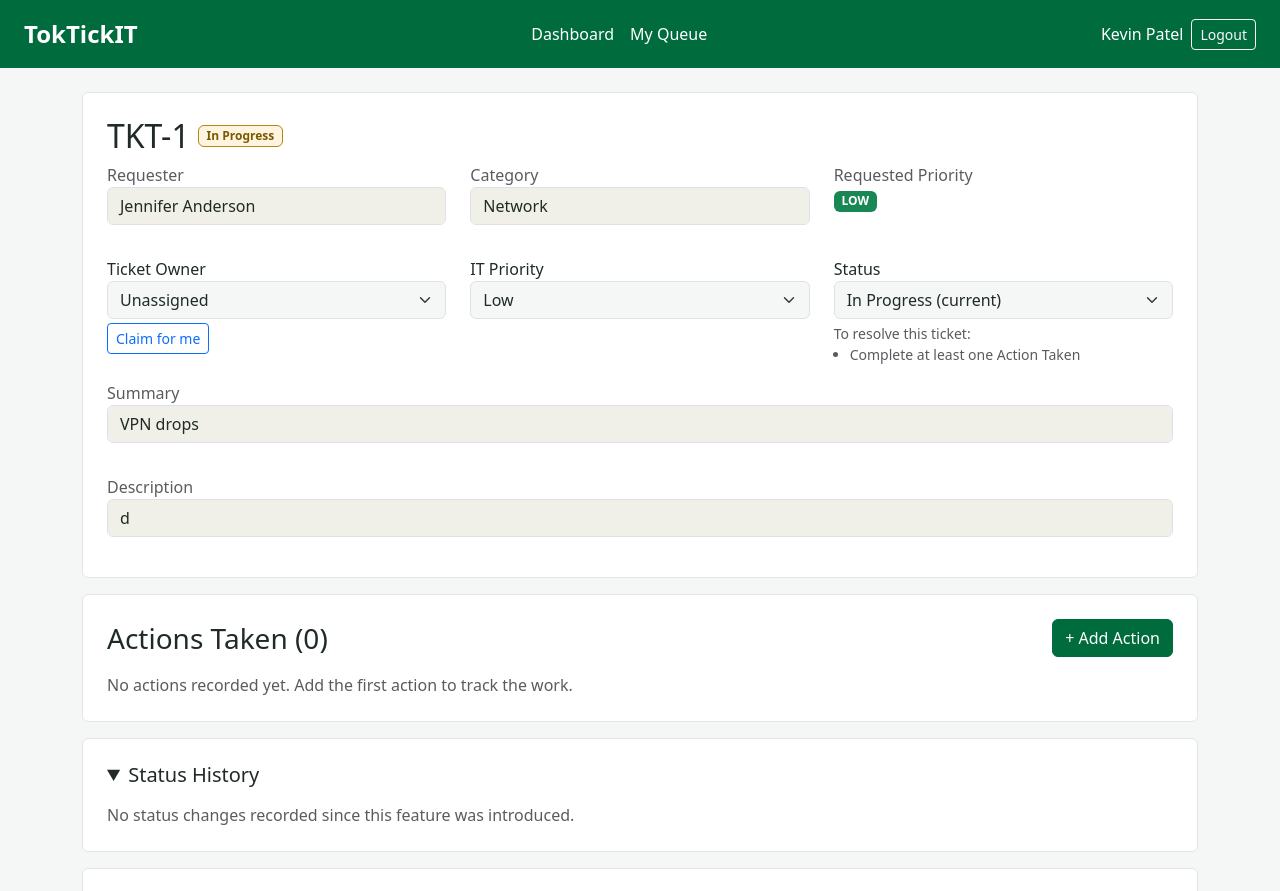
Test: Ticket workflow UI › explains the resolution gate before and after a blocked attempt (UI-10, AC-07)
Expected: the element with test id "gate-hint" shows "Complete at least one Action Taken", [850,345,1080,364]
Select "Resolved" in the dropdown with test id "status-select": (1003, 300) [834,281,1173,319]
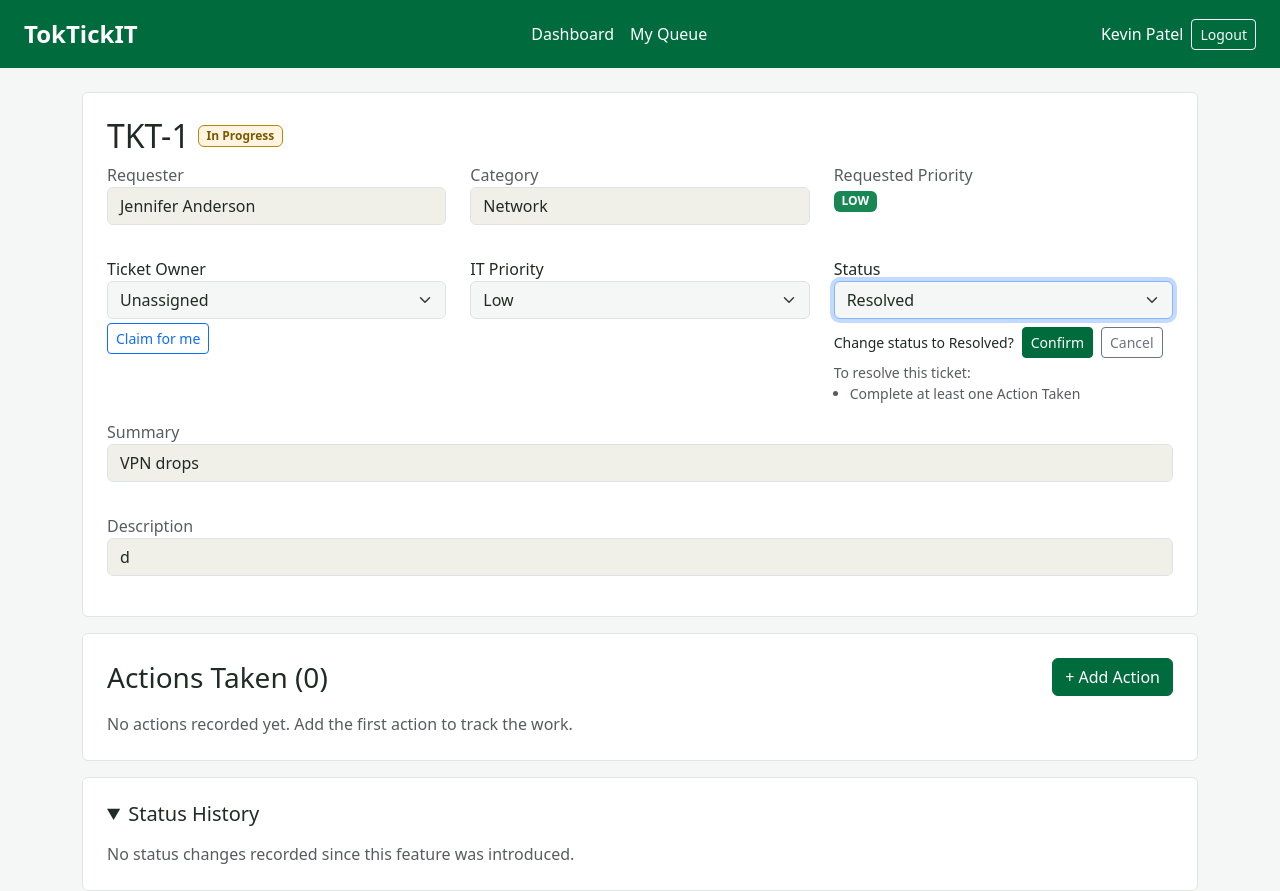
Click the button "Confirm": (1057, 343) [1022,327,1093,358]
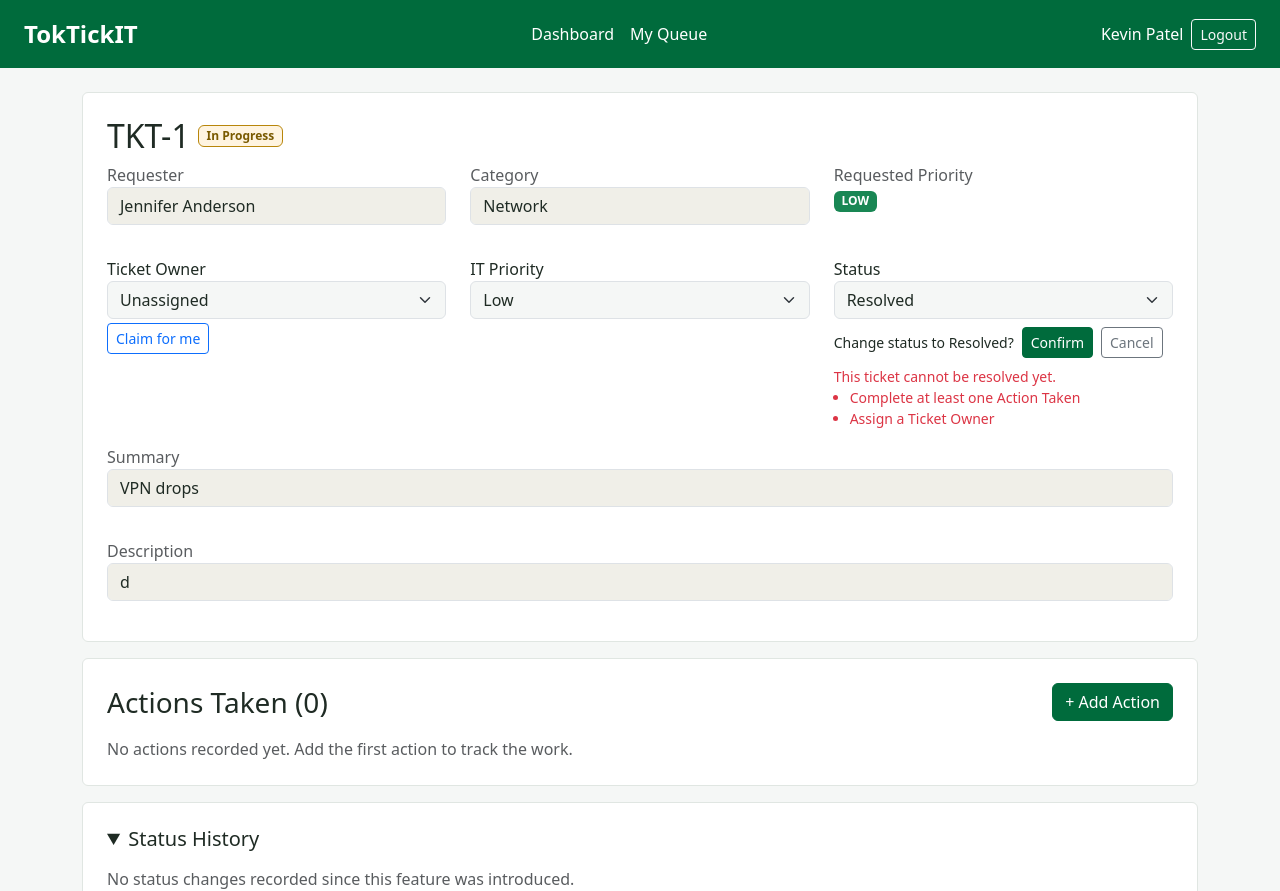
Expected: the text with test id "ticket-status-badge" reads "In Progress", [206,127,274,144]
Result: the text "This ticket cannot be resolved yet." shows "Assign a Ticket Owner" at [850,409,994,428]
